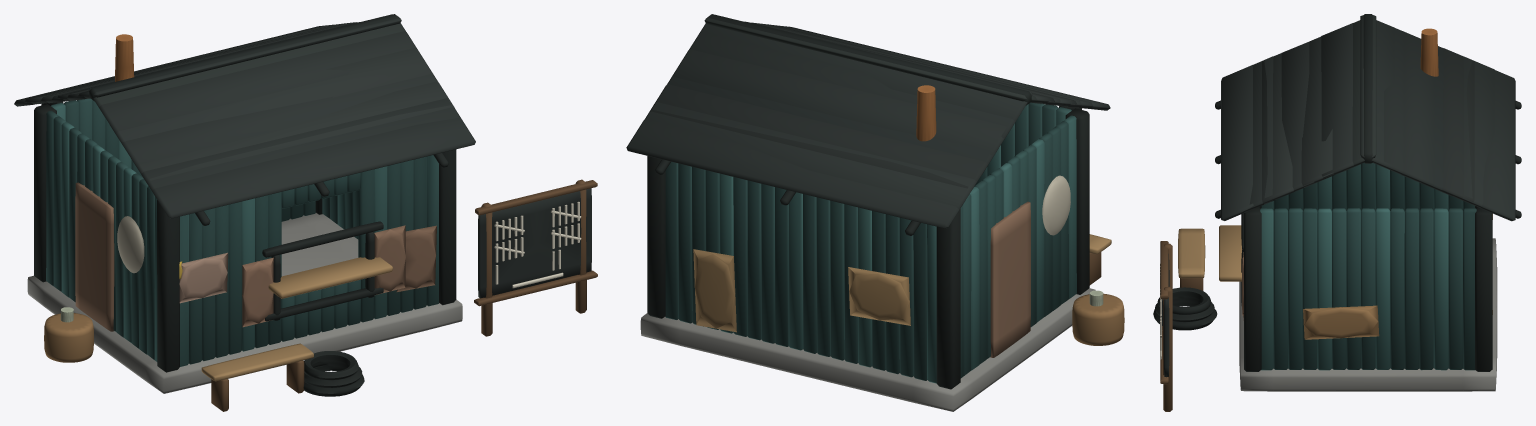
Rendered from billing_booth_a.glb.
The picture shows the model from 3 angles, left to right: view 1: azimuth 30°, elevation 25°; view 2: azimuth 150°, elevation 25°; view 3: azimuth 270°, elevation 25°; orthographic projection. The views are drawn at different scales.
Visible parts, largest first — view 1: Surface; view 2: Surface; view 3: Surface.
Part boxes in pixels (x1,y1,x2,y2): Surface: (14, 14, 597, 411); Surface: (626, 14, 1124, 411); Surface: (1153, 14, 1521, 411).
Bounding box in the file's own units: 7.35 × 4.1 × 5.42.
